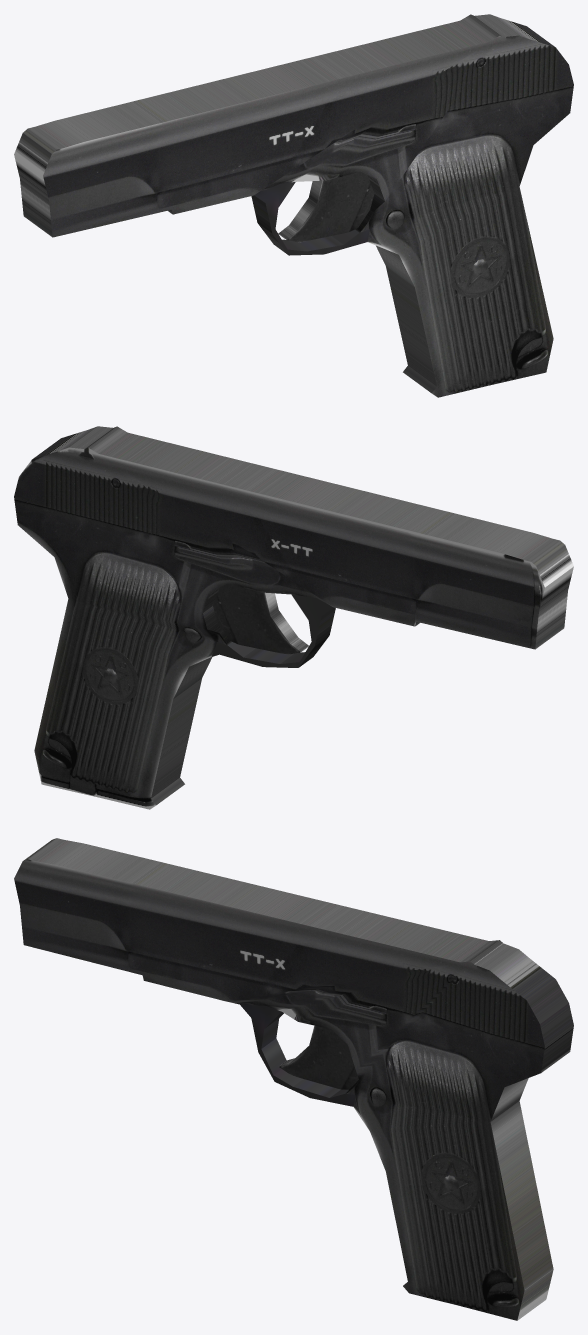
The model's file is glock.glb.
The picture shows the model from 3 angles, top to bottom: view 1: azimuth 30°, elevation 25°; view 2: azimuth 150°, elevation 25°; view 3: azimuth 330°, elevation 25°; orthographic projection.
Visible parts, largest first — view 1: Plane; view 2: Plane; view 3: Plane.
Part boxes in pixels (box(x1,y1,x2,y2)): Plane: box(14, 14, 573, 397); Plane: box(14, 426, 573, 809); Plane: box(14, 838, 573, 1320).
Size of the model in its own units: 4.52 by 2.83 by 0.4284.
Materials: 1 (1 with a texture image).
